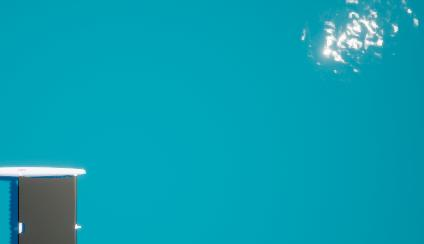boat: (0, 163, 90, 244)
drone: (19, 178, 76, 244)
land_base: (284, 0, 424, 85)
